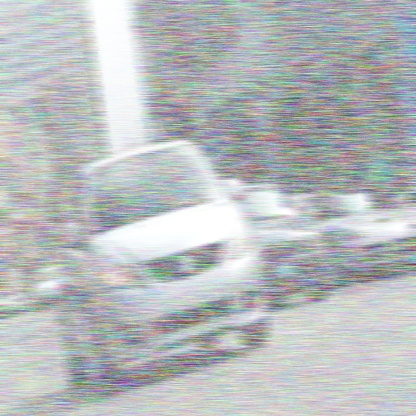Vehicle: (58, 136, 268, 398)
